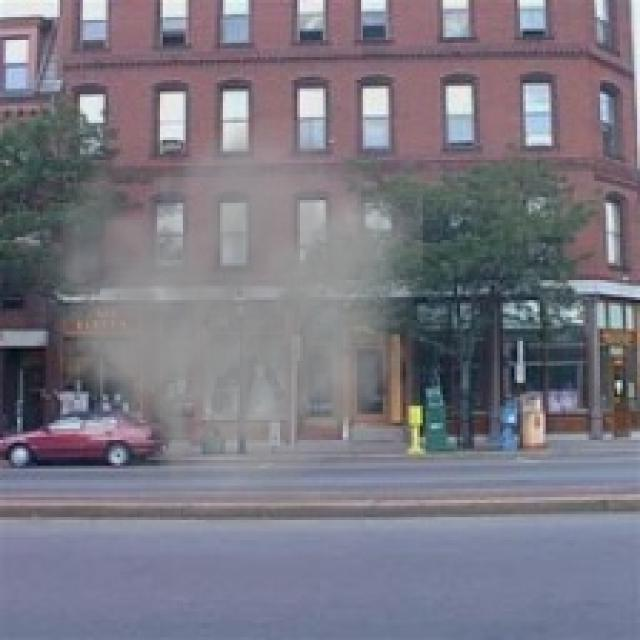Smoke: (17, 106, 423, 520)
